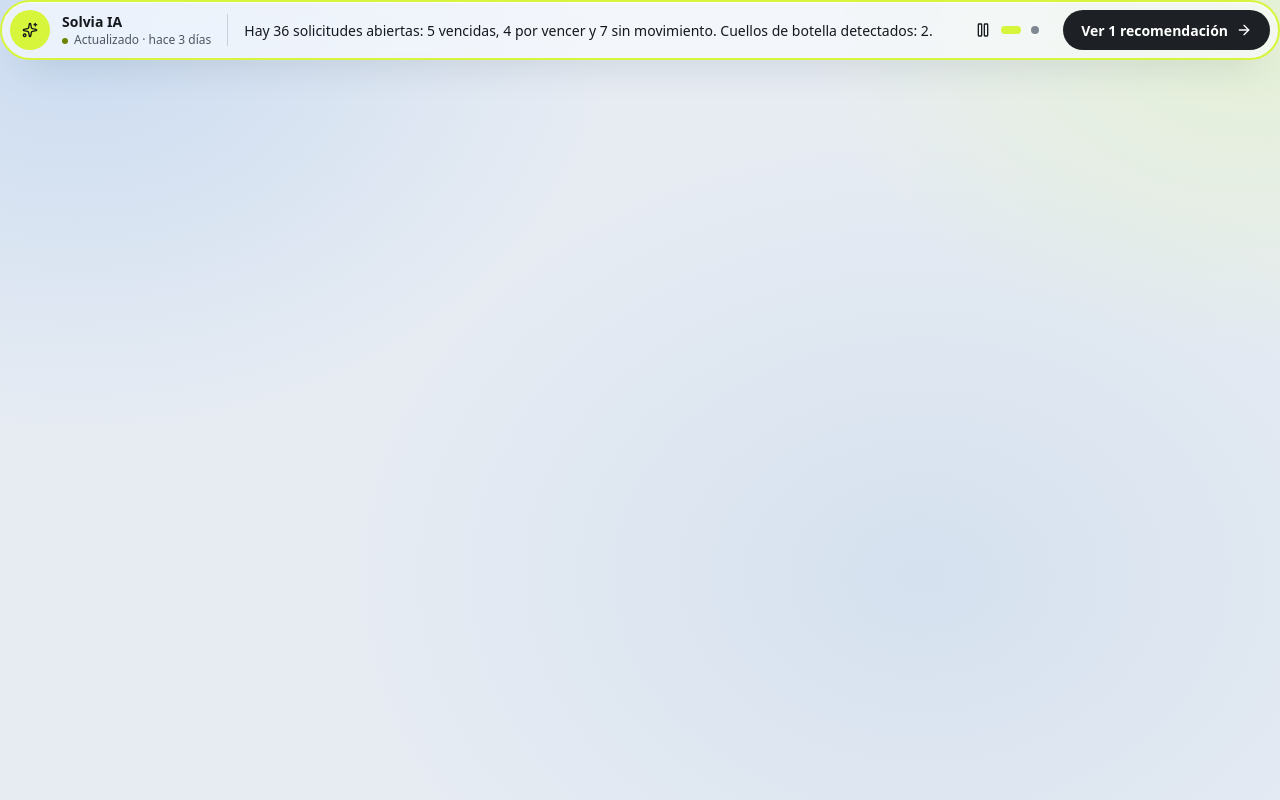
Test case: banner de IA en el panel › en respaldo traduce el análisis por reglas y muestra el aviso
Expected: the text with test id "ai-banner-text" shows "Hay 36 solicitudes abiertas: 5 vencidas, 4 por vencer y 7 sin movimiento.", [244,20,933,40]
What coordinates should you click on to do the following:
click the button "Ver 1 recomendación"
I would click on:
 (1167, 30)
Its box is [1063,10,1270,50].
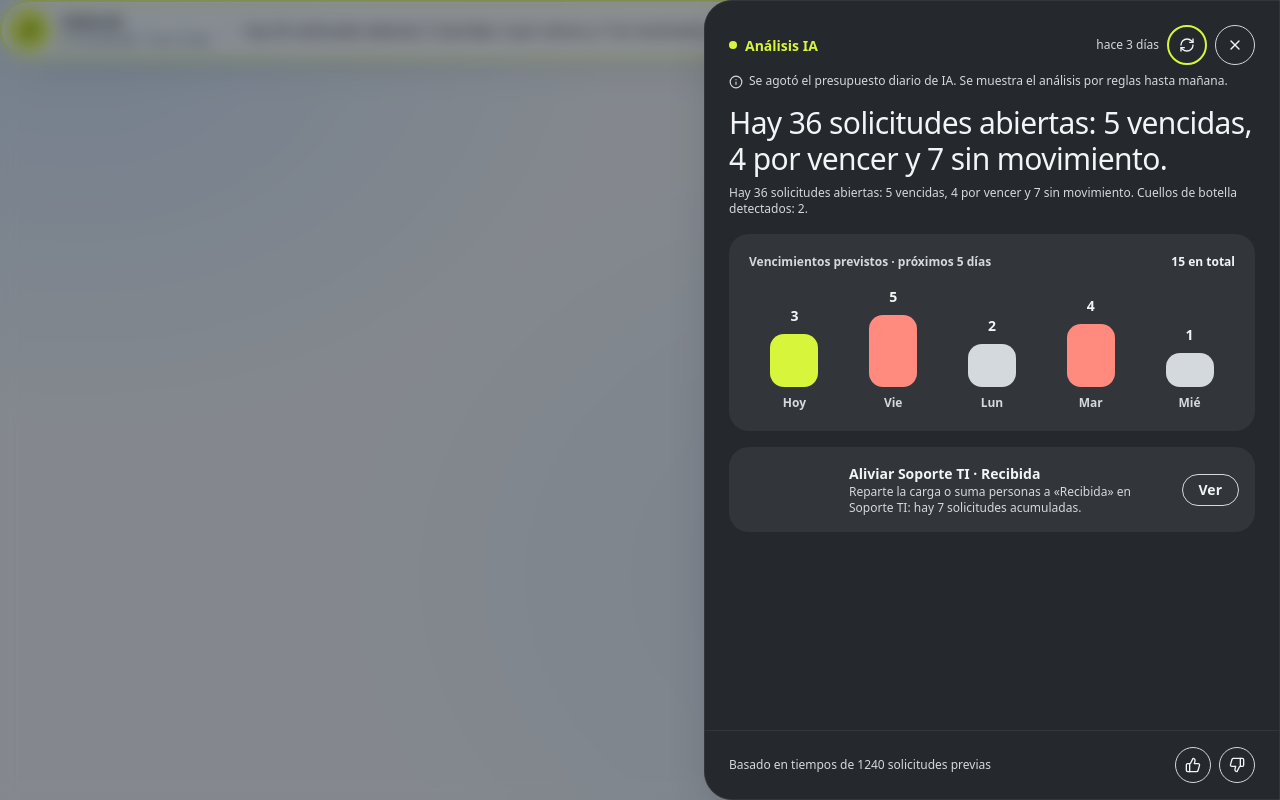
Expected: the text "Aliviar Soporte TI · Recibida" is shown, [849,464,1040,483]
Expected: the message shows "Se agotó el presupuesto diario de IA.", [749,73,1228,89]
